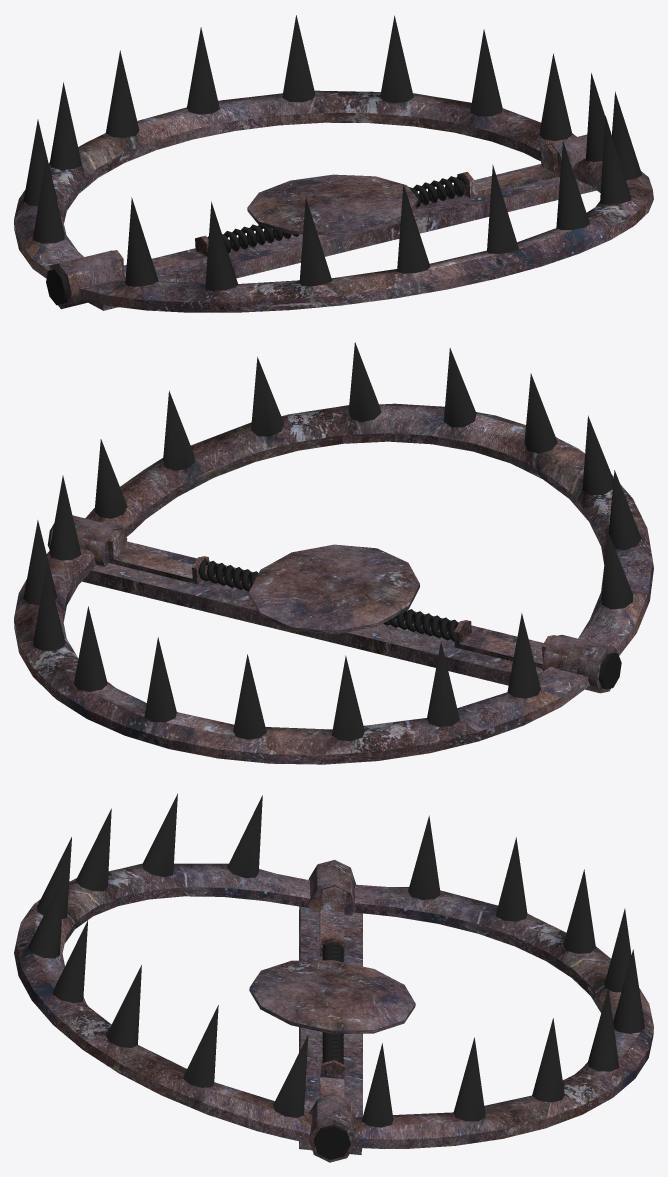
The model's file is Trap_Anim.fbx.
3 renders of one model, top to bottom at view 1: azimuth 30°, elevation 25°; view 2: azimuth 150°, elevation 25°; view 3: azimuth 270°, elevation 25°, orthographic. The views are drawn at different scales.
Visible parts, largest first — view 1: Cylinder001, Cylinder002, Box001, Cylinder005, Cylinder004, Spring001, Cylinder003; view 2: Cylinder002, Cylinder001, Box001, Cylinder005, Cylinder004, Spring001, Cylinder003; view 3: Cylinder002, Cylinder001, Cylinder005, Box001, Cylinder003, Cylinder004, Spring001.
Boxes of the visible parts, x1=… form: Cylinder001: x1=14, y1=15, x2=576, y2=278; Cylinder002: x1=78, y1=73, x2=653, y2=312; Box001: x1=88, y1=144, x2=596, y2=310; Cylinder005: x1=247, y1=174, x2=418, y2=235; Cylinder004: x1=46, y1=250, x2=124, y2=309; Spring001: x1=207, y1=174, x2=468, y2=253; Cylinder003: x1=540, y1=134, x2=587, y2=176; Cylinder002: x1=85, y1=342, x2=653, y2=655; Cylinder001: x1=14, y1=475, x2=589, y2=764; Box001: x1=82, y1=529, x2=555, y2=685; Cylinder005: x1=249, y1=544, x2=419, y2=634; Cylinder004: x1=542, y1=634, x2=621, y2=693; Spring001: x1=198, y1=558, x2=458, y2=641; Cylinder003: x1=47, y1=515, x2=127, y2=566; Cylinder002: x1=14, y1=793, x2=311, y2=1143; Cylinder001: x1=353, y1=815, x2=653, y2=1148; Cylinder005: x1=249, y1=960, x2=415, y2=1033; Box001: x1=299, y1=886, x2=362, y2=1154; Cylinder003: x1=308, y1=1094, x2=355, y2=1162; Cylinder004: x1=308, y1=860, x2=355, y2=915; Spring001: x1=322, y1=942, x2=343, y2=1064.
Bounding box in the file's own units: 39.5 × 11.95 × 40.43.
